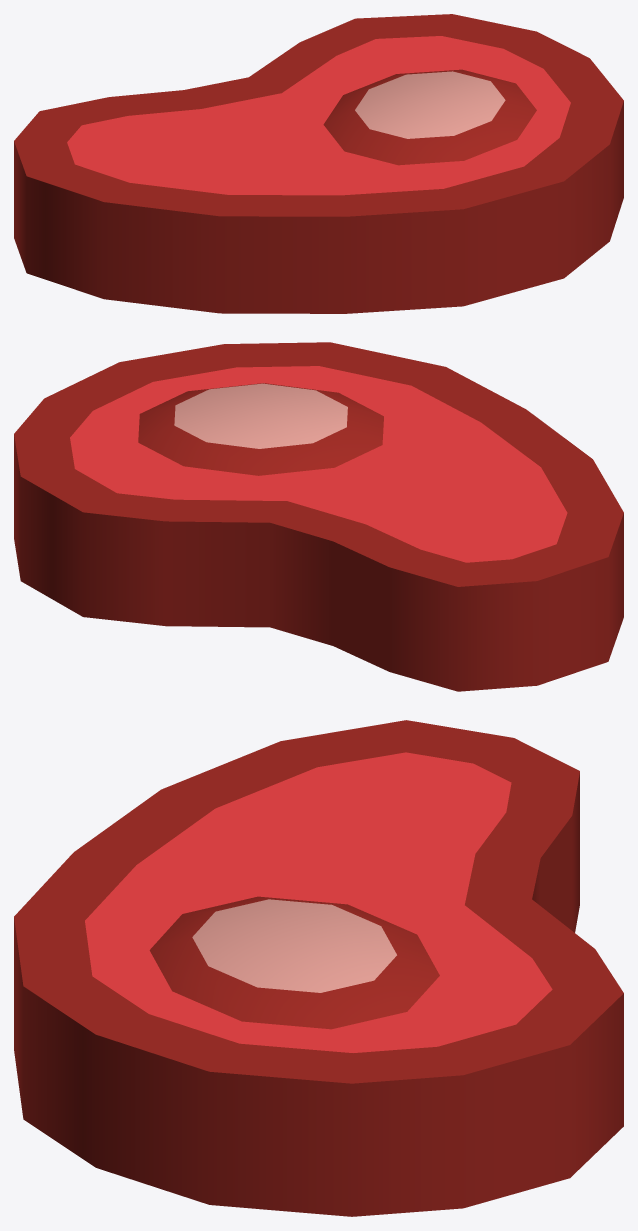
File: meat_2.fbx
3 renders of one model, top to bottom at view 1: azimuth 30°, elevation 25°; view 2: azimuth 150°, elevation 25°; view 3: azimuth 270°, elevation 25°, orthographic. The views are drawn at different scales.
Parts seen in each view (by area): view 1: meat_2; view 2: meat_2; view 3: meat_2.
Part boxes in pixels (left/top/right/bottom): meat_2: left=14, top=14, right=623, bottom=313; meat_2: left=14, top=342, right=623, bottom=691; meat_2: left=14, top=720, right=623, bottom=1216.
Size of the model in its own units: 267 by 57.21 by 190.
